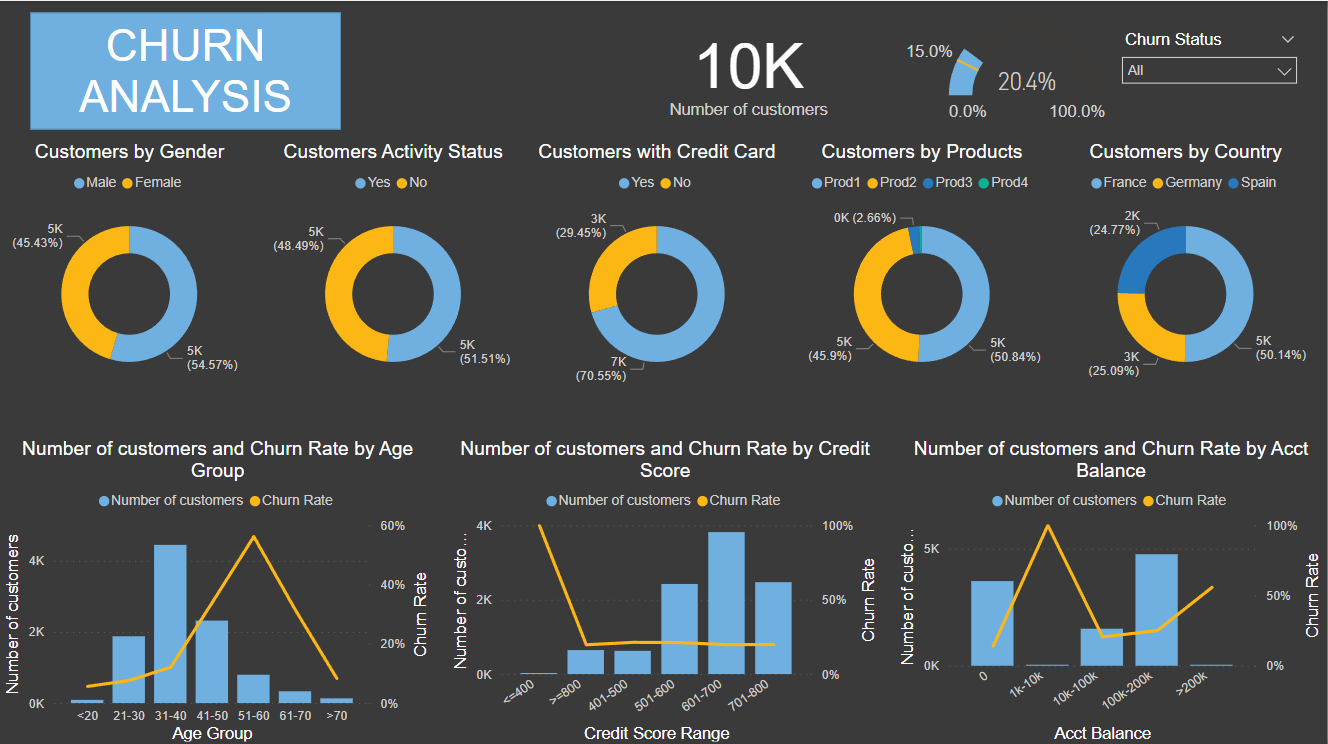

Layout of this report page (visuals, bound fields, positions):
{"tool":"powerbi","page":{"name":"Page 1","canvas":[1280,720],"ordinal":0},"visuals":[{"type":"card","fields":{"Values":["Bank Customer Churn Prediction.Number of customers"]},"box":[583.1,0,279.9,134.5],"z":0},{"type":"donutChart","title":"Customers by Gender","fields":{"Category":["Bank Customer Churn Prediction.Gender"],"Y":["Bank Customer Churn Prediction.Number of customers"]},"box":[1.9,135.6,245,245],"z":2000},{"type":"donutChart","title":"Customers by Gender","fields":{"Y":["Bank Customer Churn Prediction.Number of customers"],"Category":["Bank Customer Churn Prediction.Active Member"]},"box":[256.9,135.6,245,245],"z":3000},{"type":"donutChart","title":"Customers by Gender","fields":{"Y":["Bank Customer Churn Prediction.Number of customers"],"Category":["Bank Customer Churn Prediction.Credit Cards"]},"box":[511.9,135.6,245,245],"z":4000},{"type":"donutChart","title":"Customers by Gender","fields":{"Y":["Bank Customer Churn Prediction.Number of customers"],"Category":["Bank Customer Churn Prediction.Country"]},"box":[1021.9,135.6,245,245],"z":5000},{"type":"donutChart","title":"Customers by Gender","fields":{"Y":["Bank Customer Churn Prediction.Number of customers"],"Category":["Bank Customer Churn Prediction.Product"]},"box":[766.9,135.6,245,245],"z":6000},{"type":"lineStackedColumnComboChart","fields":{"Category":["Age Groups.Age Group"],"Y":["Bank Customer Churn Prediction.Number of customers"],"Y2":["Bank Customer Churn Prediction.Churn Rate"]},"box":[0,421,420,299],"z":6001},{"type":"lineStackedColumnComboChart","title":"Number of customers and Churn Rate by Credit Score","fields":{"Y":["Bank Customer Churn Prediction.Number of customers"],"Y2":["Bank Customer Churn Prediction.Churn Rate"],"Category":["Credit Range ID.Credit Score Range"]},"box":[431.5,421,420,299],"z":6002},{"type":"lineStackedColumnComboChart","fields":{"Y":["Bank Customer Churn Prediction.Number of customers"],"Y2":["Bank Customer Churn Prediction.Churn Rate"],"Category":["Acct Balance ID.Acct Balance"]},"box":[863,421,417,299],"z":6003},{"type":"slicer","fields":{"Values":["Bank Customer Churn Prediction.Churn Status"]},"box":[1072.1,8.6,189.5,123.5],"z":6004},{"type":"gauge","fields":{"Y":["Bank Customer Churn Prediction.Churn Rate"],"MaxValue":["Max(Bank Customer Churn Prediction.Maximum Churn Rate)"],"MinValue":["Min(Bank Customer Churn Prediction.Min Churn Rate)"],"TargetValue":["Max(Bank Customer Churn Prediction.Target Churn Rate)"]},"box":[863,0,207.8,134.5],"z":6006},{"type":"shape","box":[28.9,10.9,300.3,113.4],"z":6007},{"type":"textbox","box":[28.9,10.9,300.3,113.4],"z":6008}]}

Visuals, with their boxes in screenshot pixels (x1, y1, x2, y2), scaled from the page's 1280x720 canvas onto the 1328x744 screenshot:
card - Bank Customer Churn Prediction.Number of customers: (x1=605, y1=0, x2=895, y2=139)
"Customers by Gender" donutChart: (x1=2, y1=140, x2=256, y2=393)
"Customers by Gender" donutChart: (x1=267, y1=140, x2=521, y2=393)
"Customers by Gender" donutChart: (x1=531, y1=140, x2=785, y2=393)
"Customers by Gender" donutChart: (x1=1060, y1=140, x2=1314, y2=393)
"Customers by Gender" donutChart: (x1=796, y1=140, x2=1050, y2=393)
lineStackedColumnComboChart - Age Groups.Age Group x Bank Customer Churn Prediction.Number of customers: (x1=0, y1=435, x2=436, y2=743)
"Number of customers and Churn Rate by Credit Score" lineStackedColumnComboChart: (x1=448, y1=435, x2=883, y2=743)
lineStackedColumnComboChart - Bank Customer Churn Prediction.Number of customers x Bank Customer Churn Prediction.Churn Rate: (x1=895, y1=435, x2=1327, y2=743)
slicer - Bank Customer Churn Prediction.Churn Status: (x1=1112, y1=9, x2=1309, y2=137)
gauge - Bank Customer Churn Prediction.Churn Rate x Max(Bank Customer Churn Prediction.Maximum Churn Rate): (x1=895, y1=0, x2=1111, y2=139)
shape: (x1=30, y1=11, x2=342, y2=128)
textbox: (x1=30, y1=11, x2=342, y2=128)
